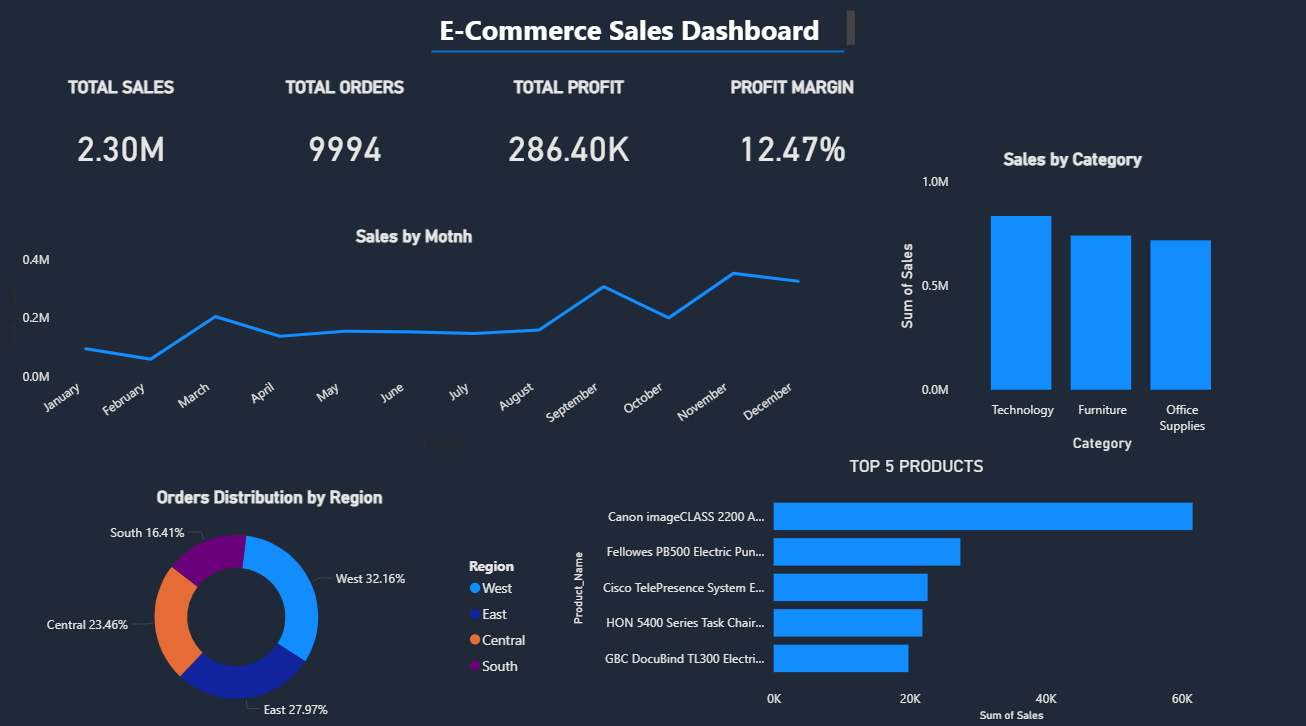

This screenshot's page, from the dashboard's own definition file:
{"tool":"powerbi","page":{"name":"Page 1","canvas":[1280,720],"ordinal":0},"visuals":[{"type":"lineChart","title":"Sales by Motnh","fields":{"Y":["Sum(superstore_cleaned_final.Sales)"],"Category":["superstore_cleaned_final.Order_Date.Variation.Date Hierarchy.Month"]},"box":[0,228.6,812.9,225.7],"z":0},{"type":"card","title":"TOTAL SALES","fields":{"Values":["Sum(superstore_cleaned_final.Sales)"]},"box":[54.3,82.9,131.4,117.1],"z":1000},{"type":"clusteredColumnChart","title":"Sales by Category","fields":{"Category":["superstore_cleaned_final.Category"],"Y":["Sum(superstore_cleaned_final.Sales)"]},"box":[875.7,152.9,350,301.4],"z":2000},{"type":"card","title":"TOTAL PROFIT","fields":{"Values":["Sum(superstore_cleaned_final.Profit)"]},"box":[490.5,82.9,134.3,117.1],"z":3000},{"type":"card","title":"TOTAL ORDERS","fields":{"Values":["CountNonNull(superstore_cleaned_final.Order_ID)"]},"box":[272.4,82.9,131.4,117.1],"z":4000},{"type":"card","title":"PROFIT MARGIN","fields":{"Values":["superstore_cleaned_final.Profit Margin"]},"box":[711.4,82.9,131.4,117.1],"z":5000},{"type":"donutChart","title":"Orders Distribution by Region","fields":{"Category":["superstore_cleaned_final.Region"],"Y":["Count(superstore_cleaned_final.Order_ID)"]},"box":[0,484.3,530,235.7],"z":6000},{"type":"clusteredBarChart","title":"TOP 5 PRODUCTS","fields":{"Y":["Sum(superstore_cleaned_final.Sales)"],"Category":["superstore_cleaned_final.Product_Name"]},"box":[557.1,454.3,682.9,265.7],"z":7000},{"type":"textbox","box":[425.7,12.9,417.1,44.3],"z":8000},{"type":"shape","box":[422.9,14.3,404.3,87.1],"z":9000}]}

Visuals, with their boxes in screenshot pixels (x1, y1, x2, y2), scaled from the page's 1280x720 canvas onto the 1306x726 screenshot:
"Sales by Motnh" lineChart: [left=0, top=231, right=829, bottom=458]
"TOTAL SALES" card: [left=55, top=84, right=189, bottom=202]
"Sales by Category" clusteredColumnChart: [left=893, top=154, right=1251, bottom=458]
"TOTAL PROFIT" card: [left=500, top=84, right=637, bottom=202]
"TOTAL ORDERS" card: [left=278, top=84, right=412, bottom=202]
"PROFIT MARGIN" card: [left=726, top=84, right=860, bottom=202]
"Orders Distribution by Region" donutChart: [left=0, top=488, right=541, bottom=725]
"TOP 5 PRODUCTS" clusteredBarChart: [left=568, top=458, right=1265, bottom=725]
textbox: [left=434, top=13, right=860, bottom=58]
shape: [left=431, top=14, right=844, bottom=102]
